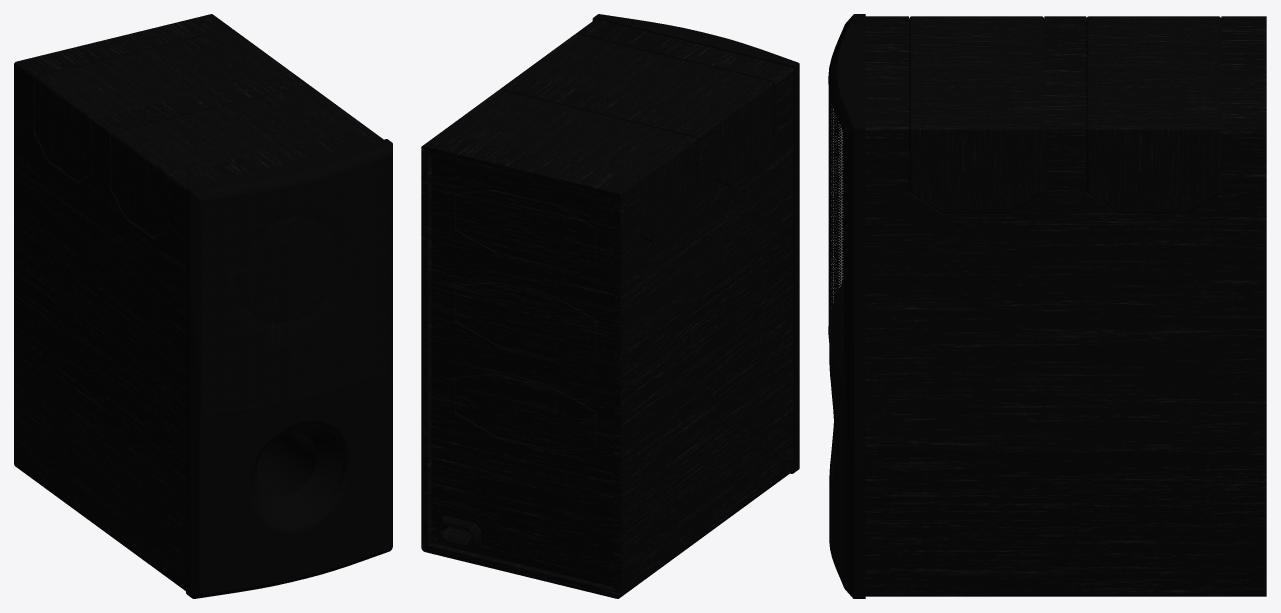
File: Collumn.fbx
The picture shows the model from 3 angles, left to right: view 1: azimuth 30°, elevation 25°; view 2: azimuth 150°, elevation 25°; view 3: azimuth 270°, elevation 25°; orthographic projection. The views are drawn at different scales.
Parts seen in each view (by area): view 1: Collumn; view 2: Collumn; view 3: Collumn.
Boxes of the visible parts, x1,y1,x2,y2 form: Collumn: (14,14,392,598); Collumn: (421,14,799,598); Collumn: (828,14,1266,598).
Size of the model in its own units: 0.4428 by 0.7169 by 0.8541.
